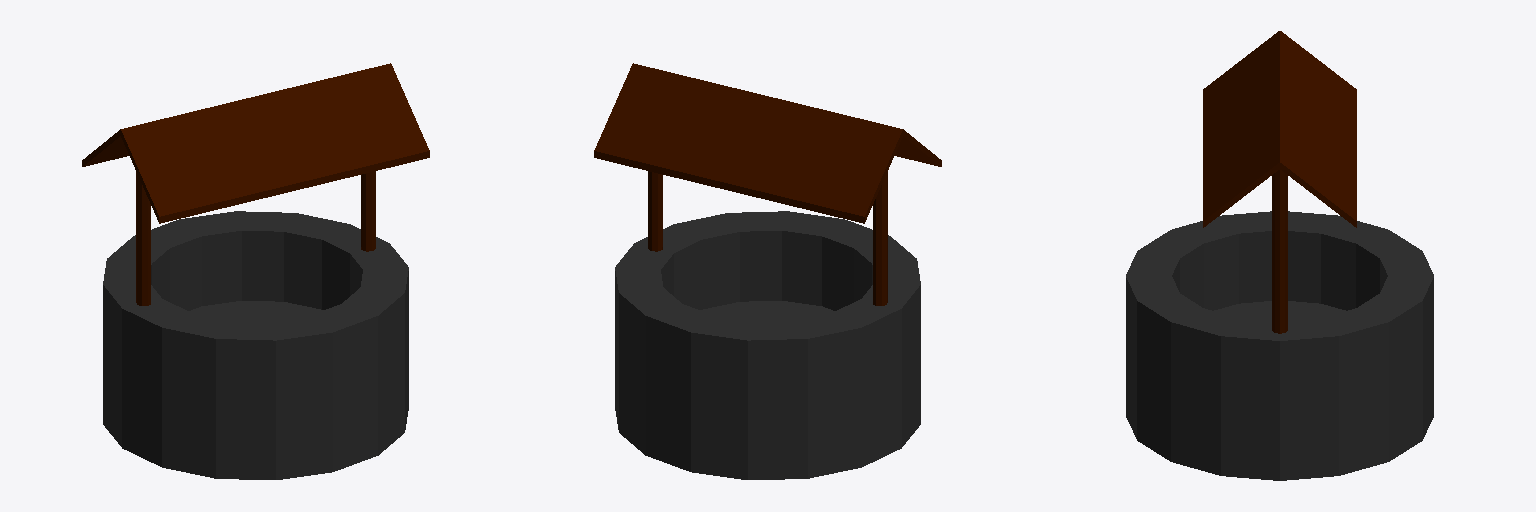
File: well.obj
3 renders of one model, left to right at view 1: azimuth 30°, elevation 25°; view 2: azimuth 150°, elevation 25°; view 3: azimuth 270°, elevation 25°, orthographic.
Visible parts, largest first — view 1: Well_Cylinder; view 2: Well_Cylinder; view 3: Well_Cylinder.
Boxes of the visible parts, x1=… form: Well_Cylinder: x1=82, y1=63, x2=429, y2=479; Well_Cylinder: x1=594, y1=63, x2=941, y2=479; Well_Cylinder: x1=1126, y1=31, x2=1433, y2=480.
Size of the model in its own units: 4.04 by 4.57 by 4.